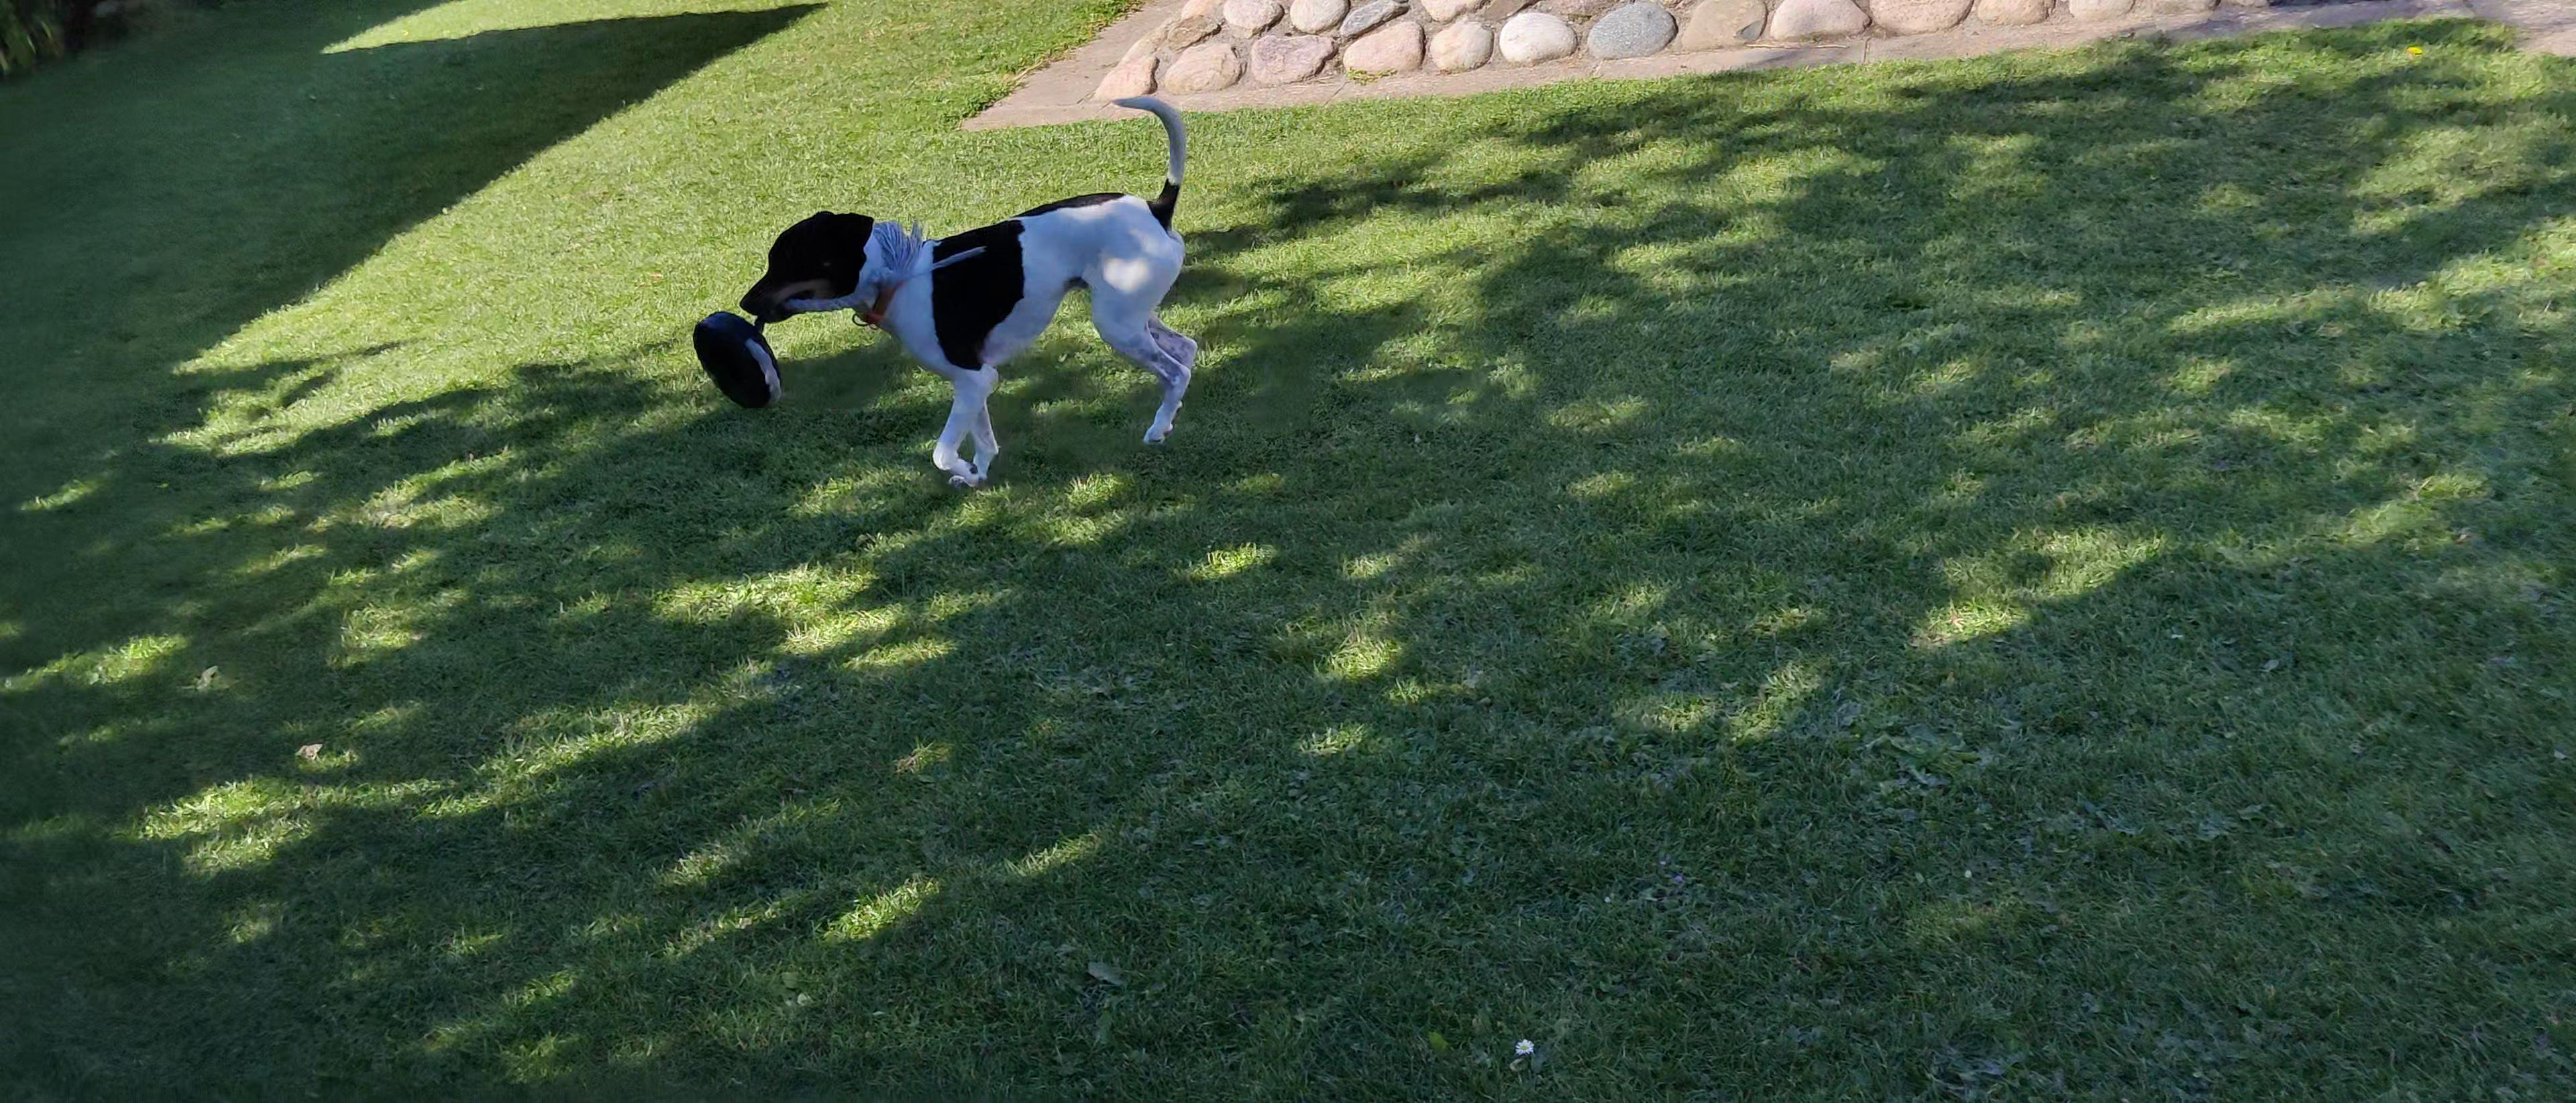Dog: (738, 92, 1214, 487)
